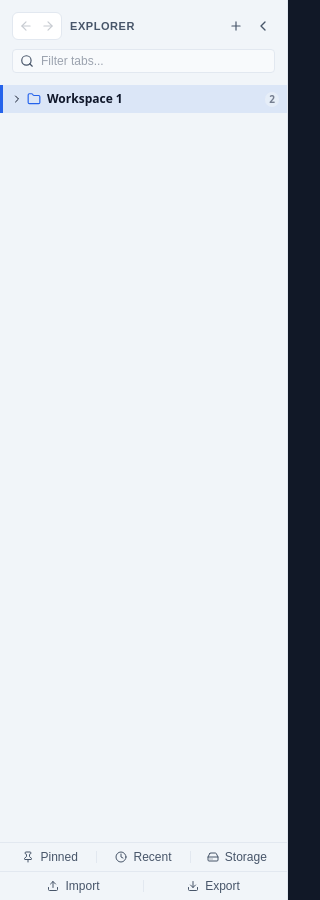
Test case: Sidebar Component › shows recently modified tabs sorted by lastModified in the Recent quick panel
Step 1. Click the button with test id "sidebar-recent-tabs-button" → (143, 857), box [101,843,186,871]
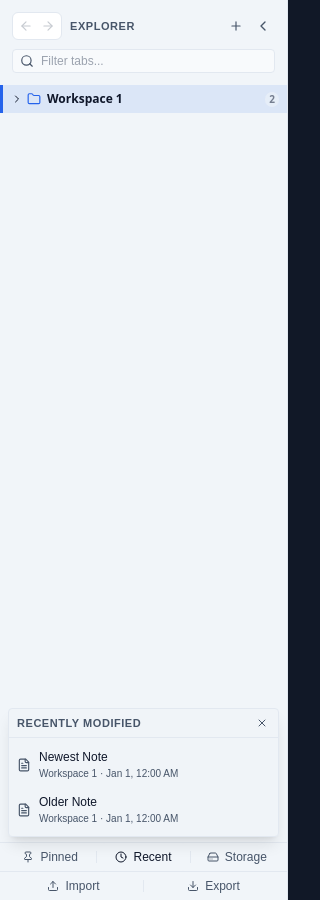
expect the button "Newest Note Workspace 1 · Jan 1, 12:00 AM" is shown: met, box [9,742,278,787]
expect the button "Older Note Workspace 1 · Jan 1, 12:00 AM" is shown: met, box [9,787,278,832]
